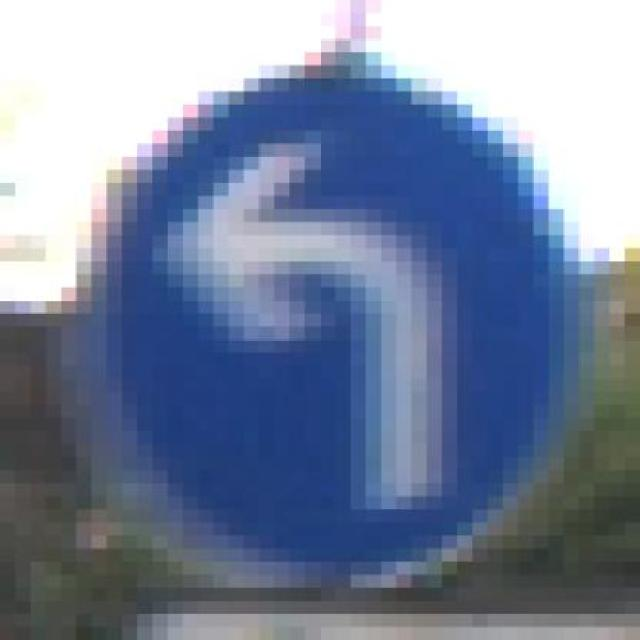Turn left ahead: (76, 65, 595, 601)
